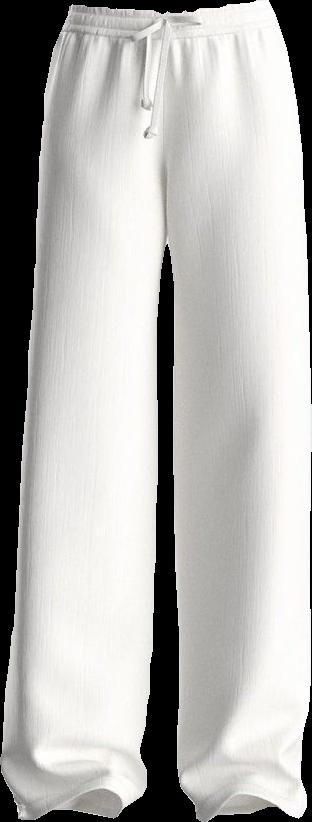Hemline: (21, 789, 136, 821), (199, 793, 306, 821)
Pantleg: (0, 5, 164, 818), (164, 0, 311, 821)
Waistline: (58, 23, 282, 42), (66, 0, 271, 20)
